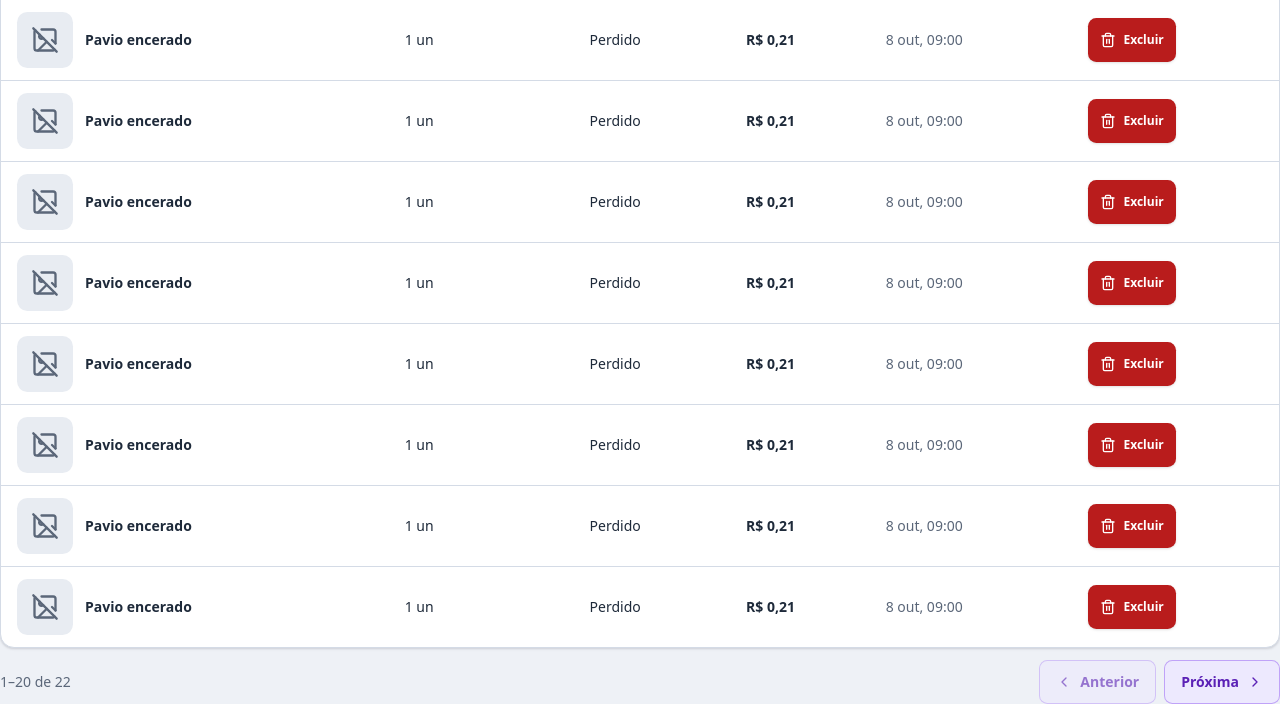
the loss history › goes to the next page by offset and says where it is
(page scrolled)
Click the button "Próxima" at (1222, 682), box [1164,660,1279,703]
(page scrolled)
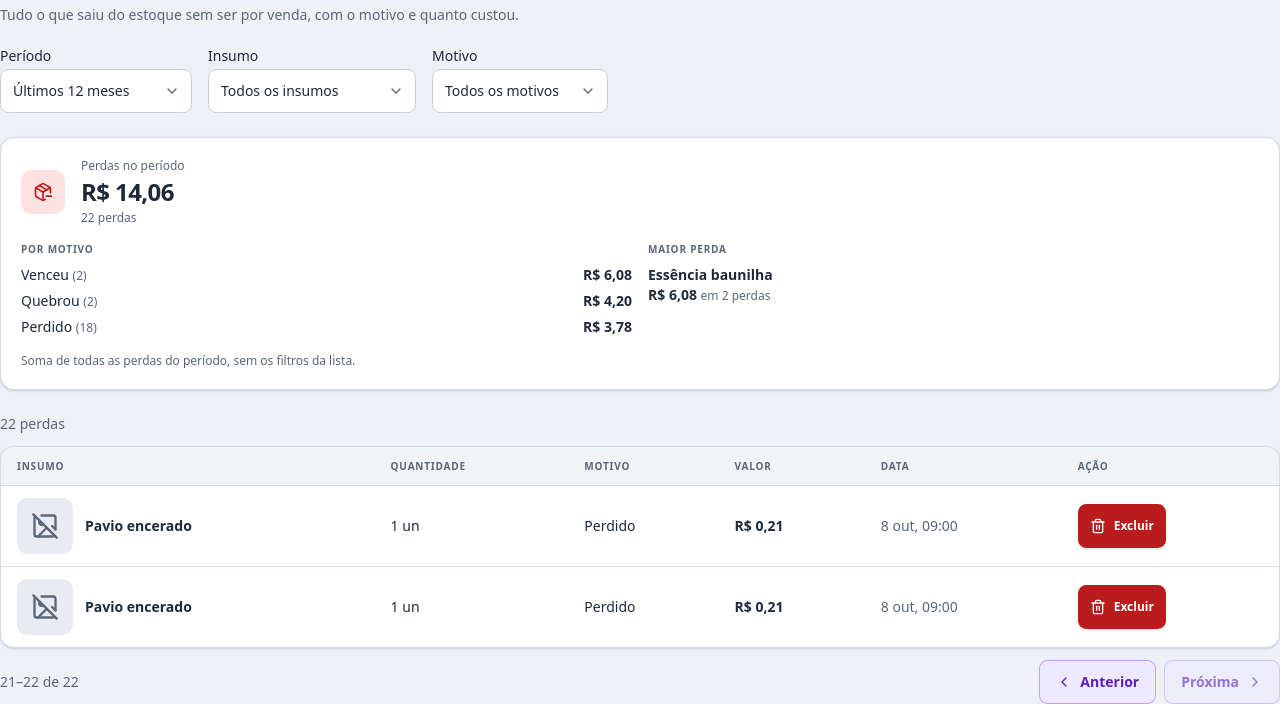
Expected: the text "21–22 de 22" is shown, [0,672,79,692]
Expected: the button "Próxima" is disabled, [1164,660,1279,703]
Click the button "Anterior" at (1098, 682), box [1039,660,1156,703]
(page scrolled)
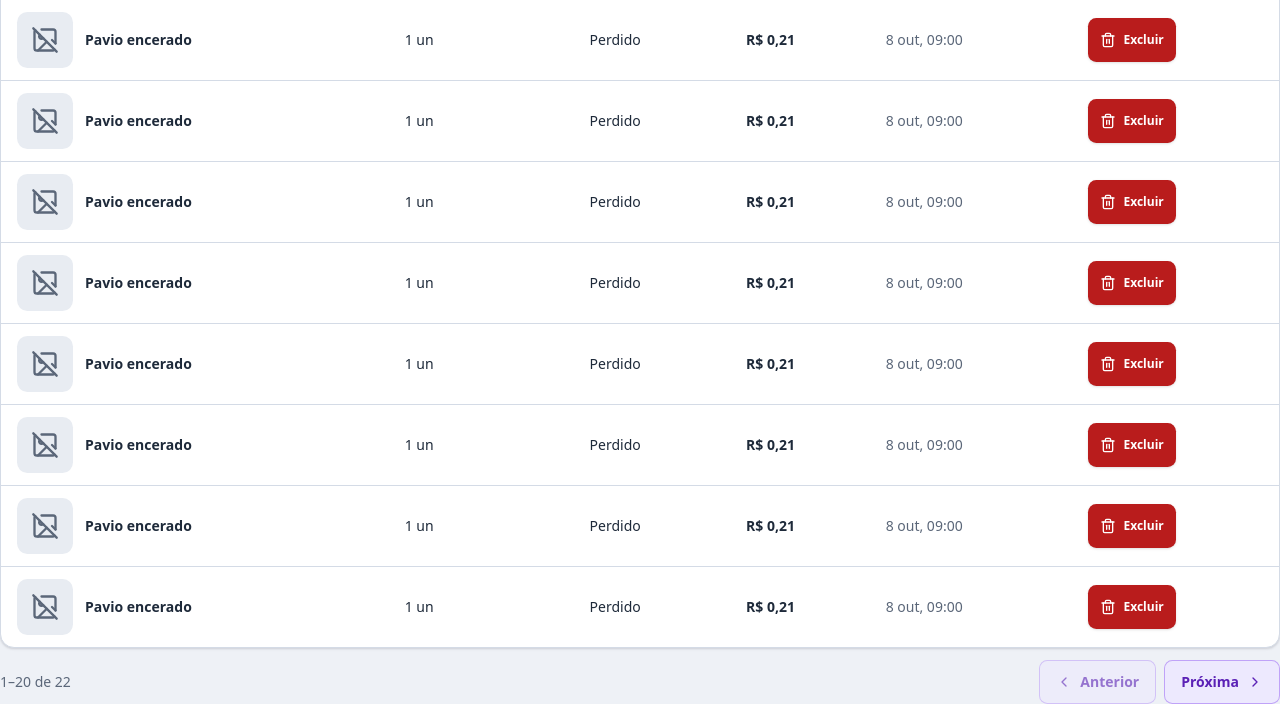
Expected: the text "1–20 de 22" is shown, [0,672,71,692]
